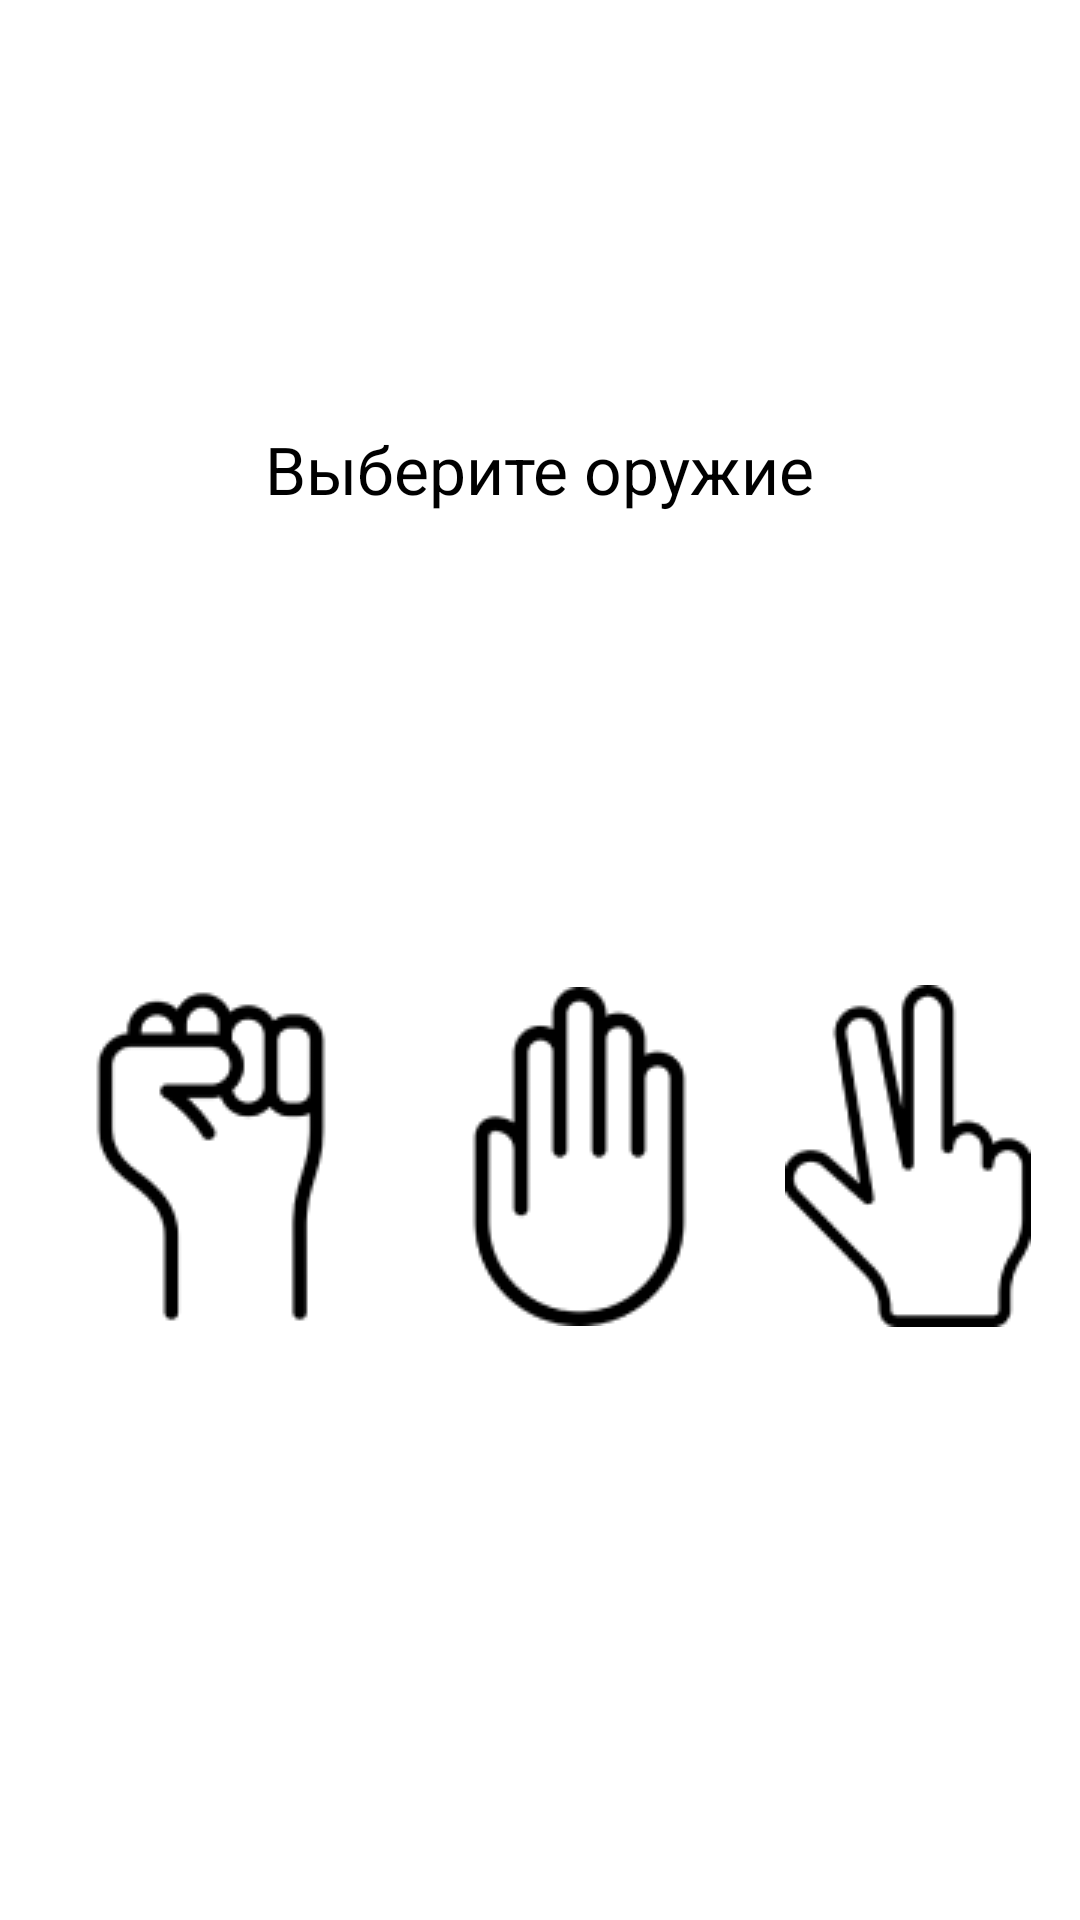

Icon click points for this 1080 x 1920 phone screenshot, format point (x, y):
paper: point (579, 1156)
rock: point (211, 1156)
scissors: point (908, 1156)
